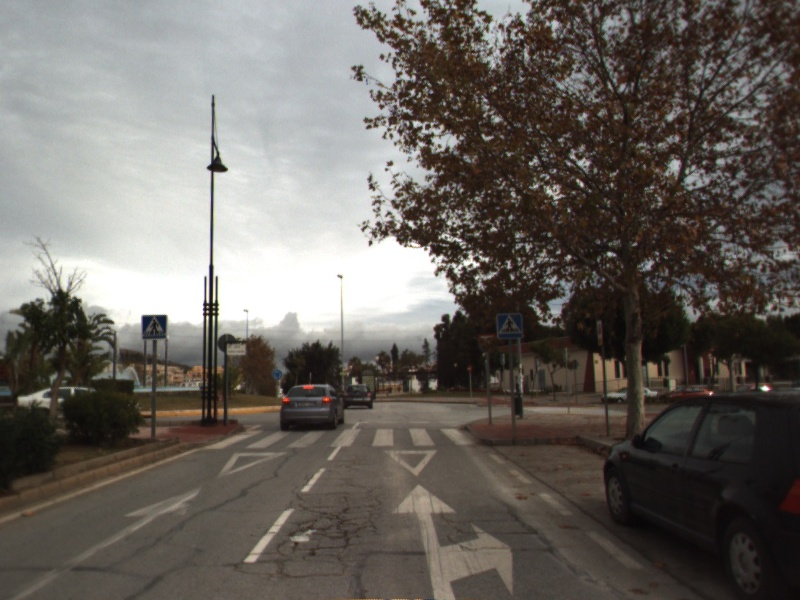STRAIGHT: (5, 483, 204, 600)
STRAIGHT_RIGHT: (387, 481, 517, 600)
